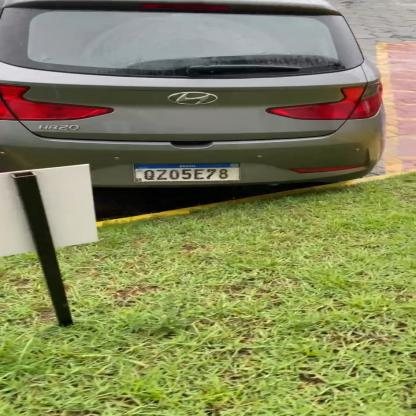Plate: (127, 161, 244, 184)
